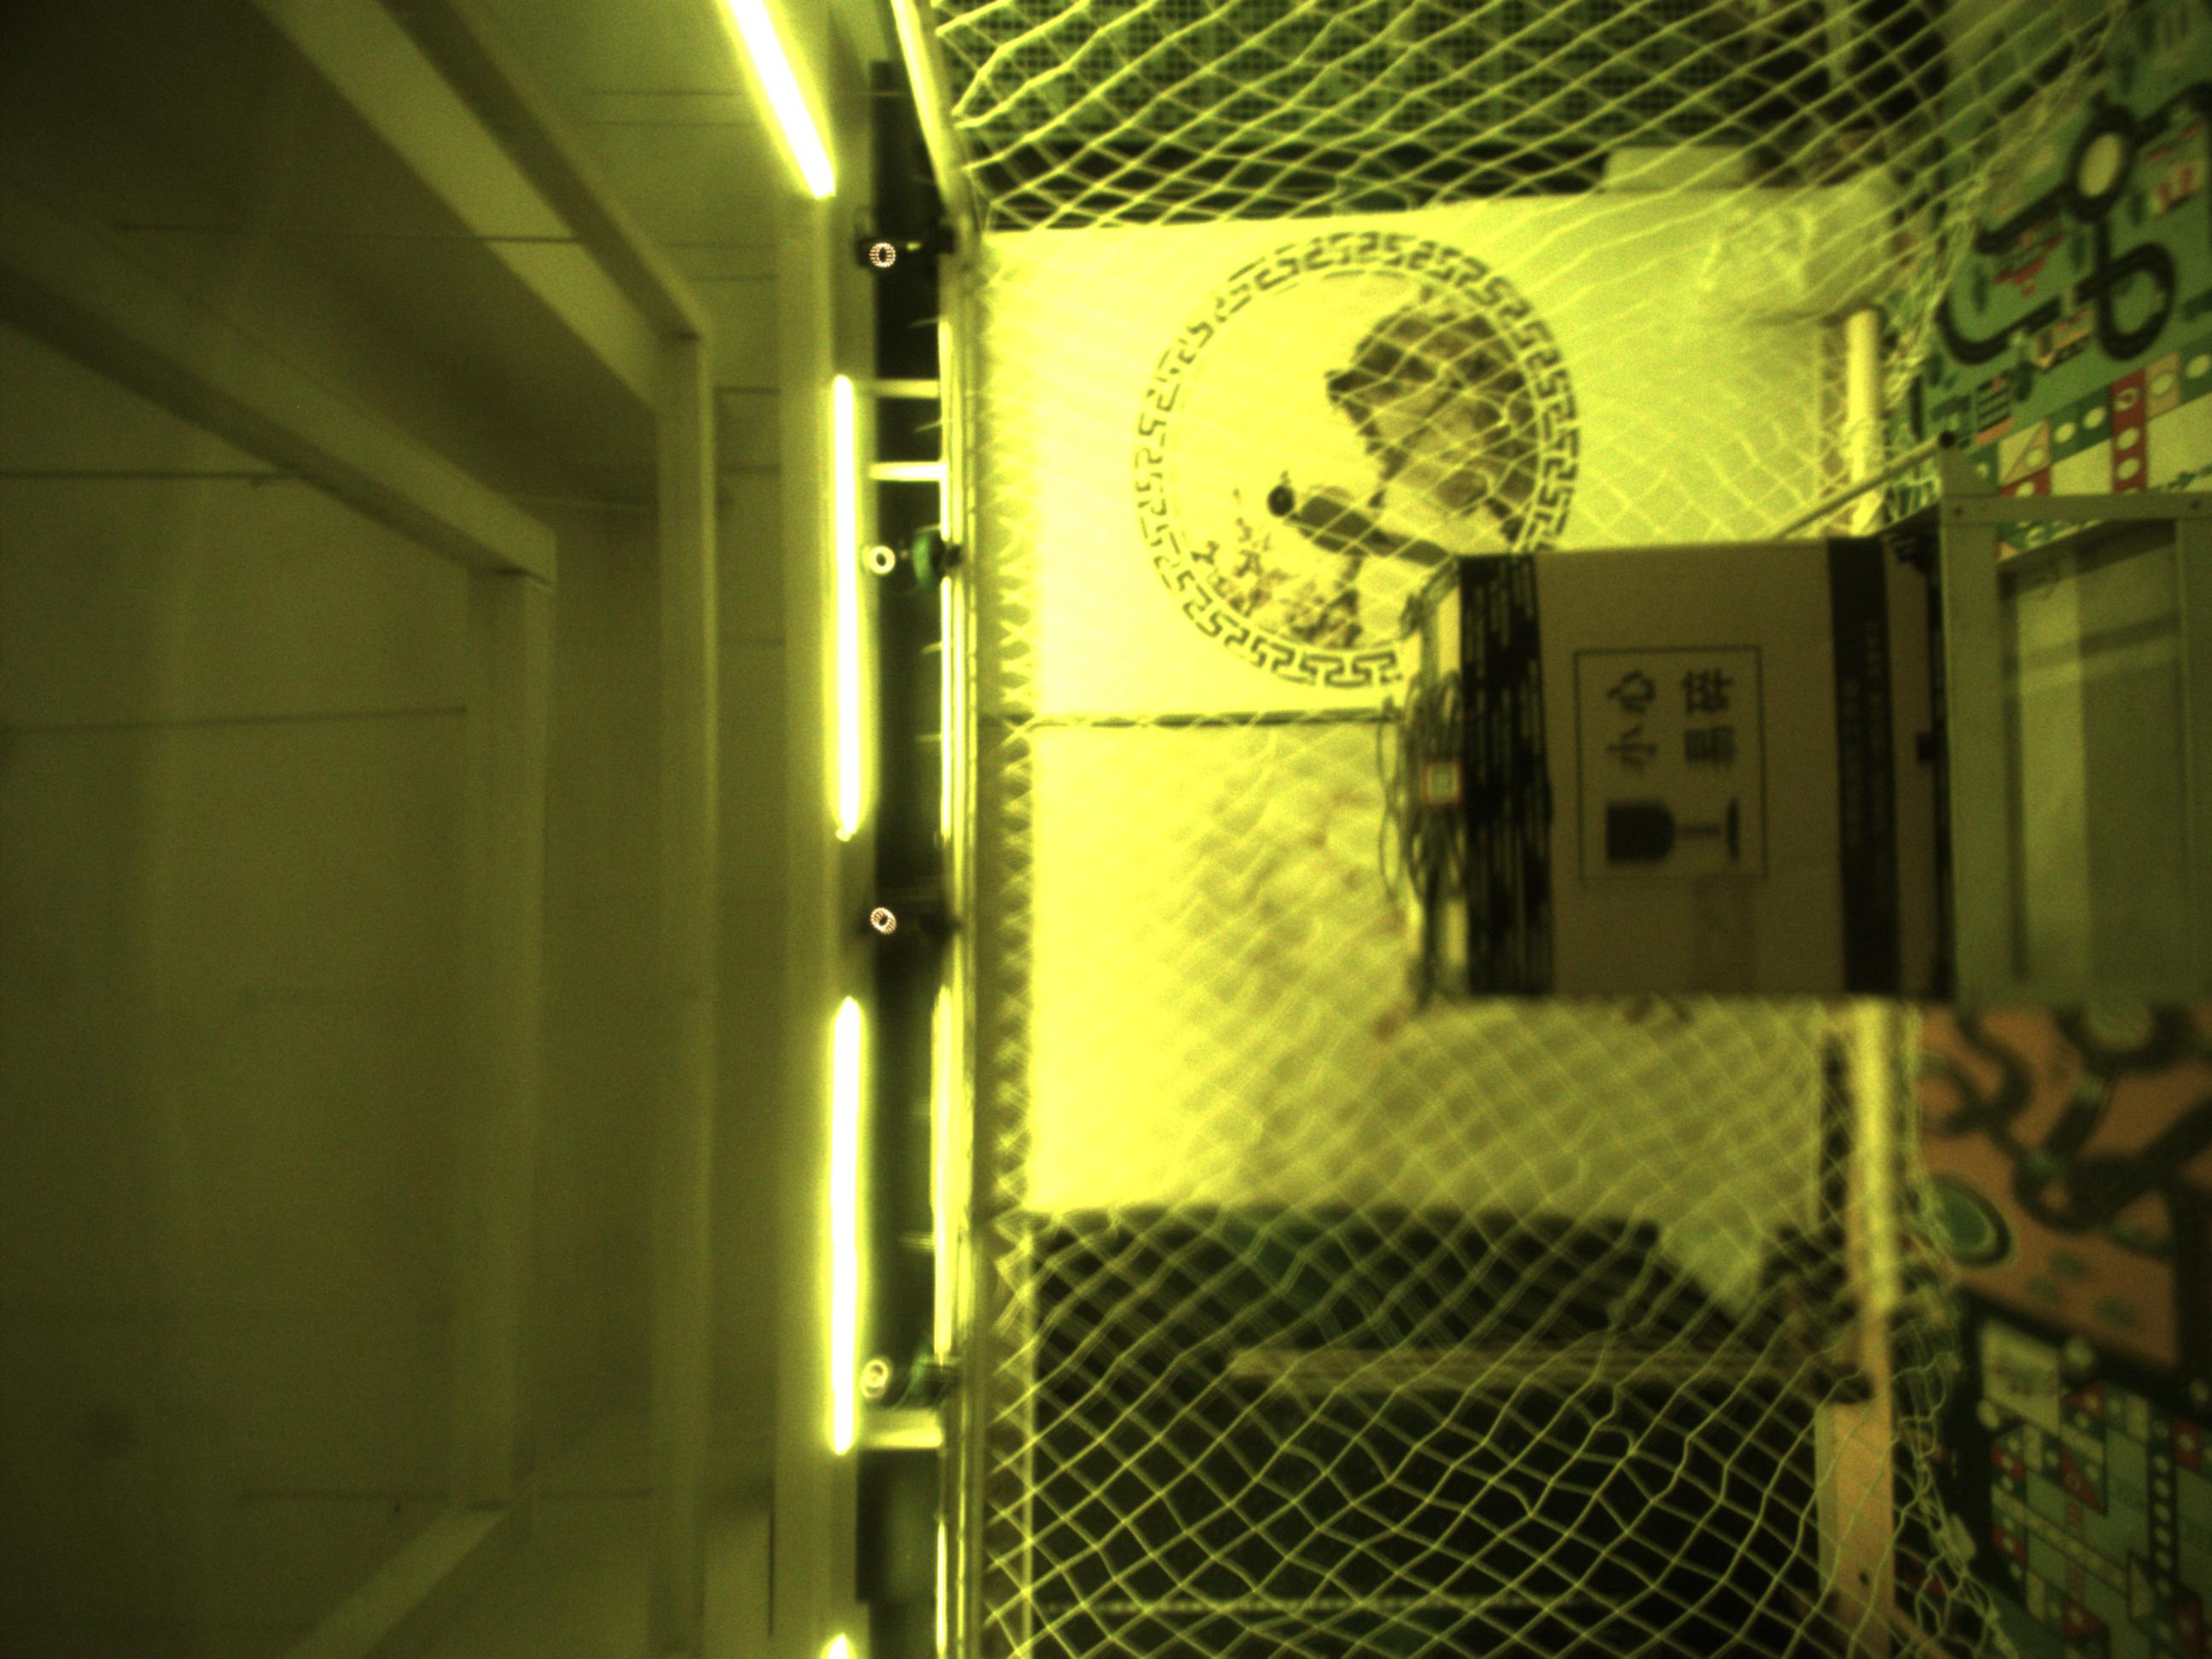outline: (1420, 760, 1461, 805)
